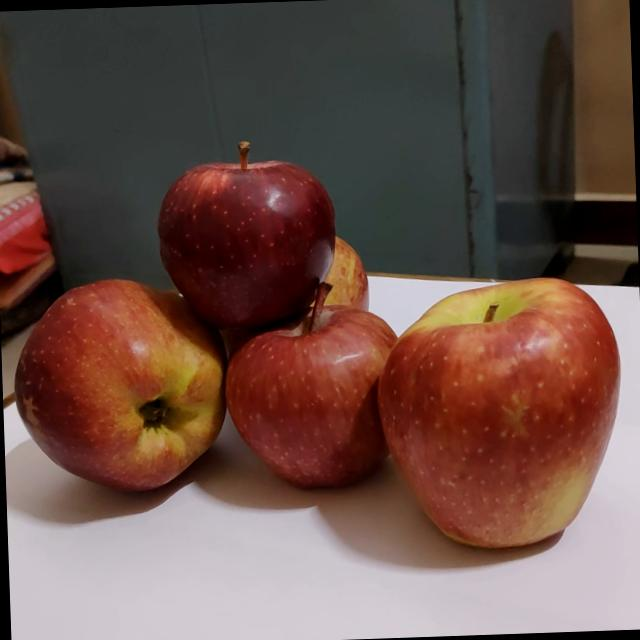apple: (372, 276, 630, 566), (9, 271, 232, 499), (220, 276, 406, 500), (154, 138, 345, 336), (301, 233, 374, 330)
